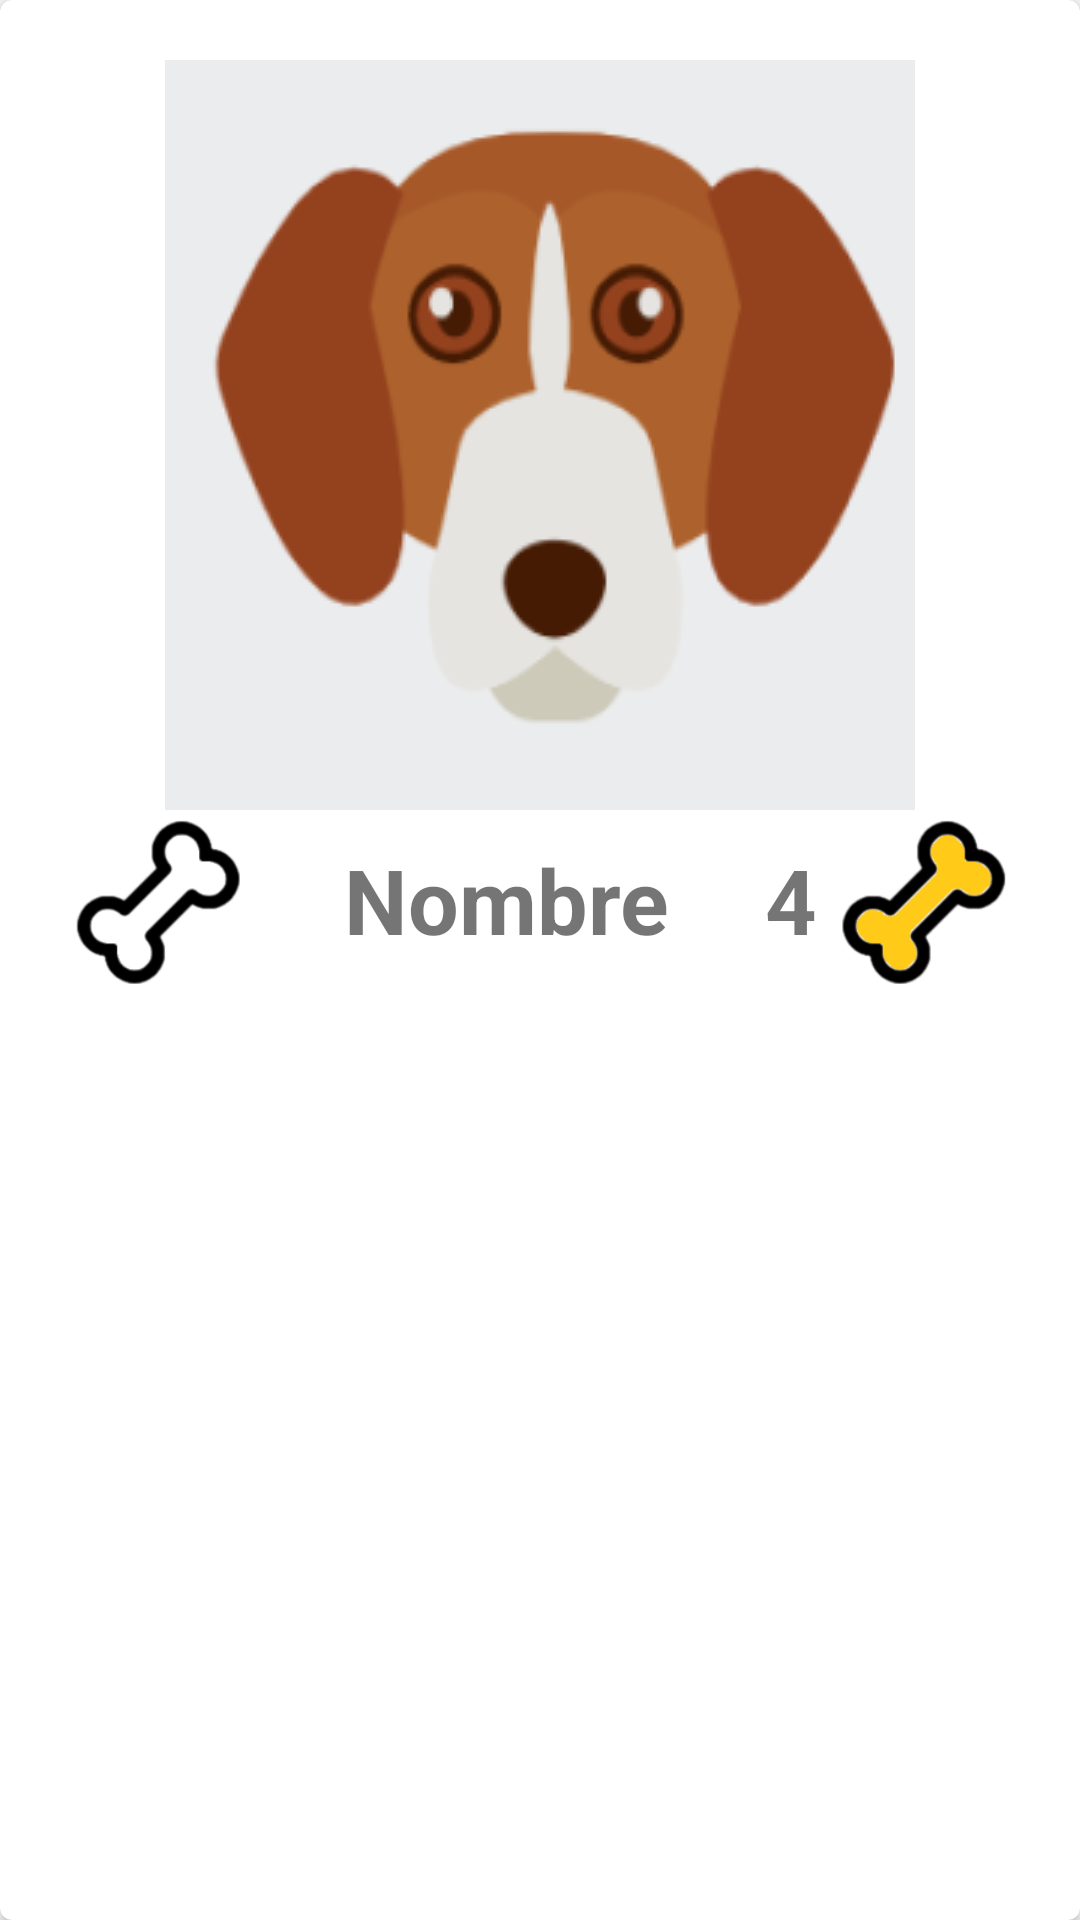

Where icons sit on this 1080*1920 app screen, as (x1, y1, x2, y2):
Marcar like a esta mascota: (76, 821, 240, 984)
Número de veces que fue dado like: (842, 821, 1006, 984)
